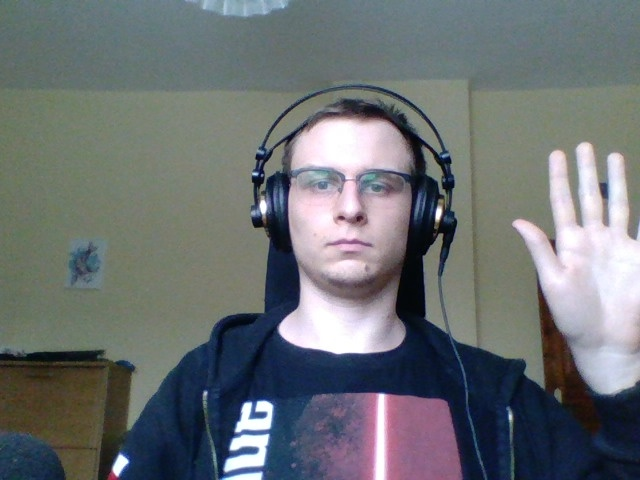hello: (510, 140, 640, 399)
